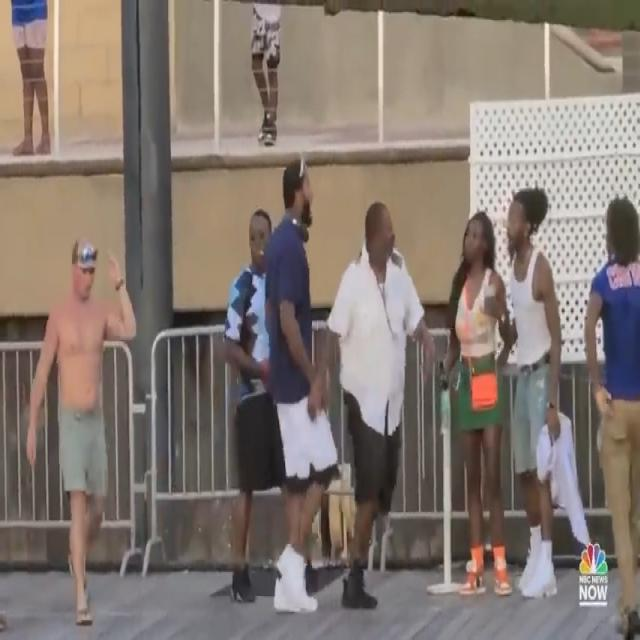non-fight: (223, 148, 640, 640), (19, 221, 141, 630)
